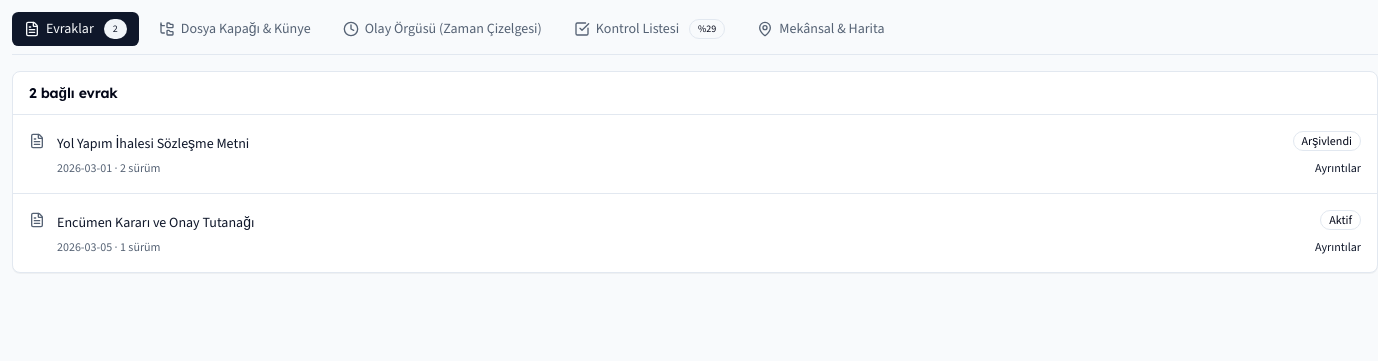
Test: DossierWorkspaceTabs › renders documents tab by default and switches to cover sheet
Expected: the link "Yol Yapım İhalesi Sözleşme Metni" is shown, [57,134,249,153]
Expected: the link "Encümen Kararı ve Onay Tutanağı" is shown, [57,213,254,232]
Click the button "Dosya Kapağı & Künye": (235, 29) [147,12,323,46]
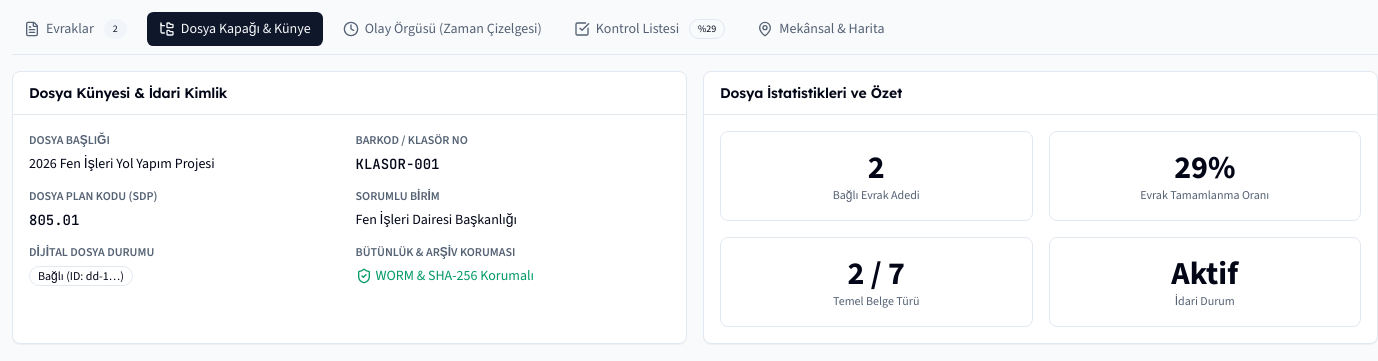
Expected: the text "KLASOR-001" is shown, [356,155,440,173]
Expected: the text "Fen İşleri Dairesi Başkanlığı" is shown, [356,210,517,229]
Expected: the text "WORM & SHA-256 Korumalı" is shown, [376,265,534,287]
